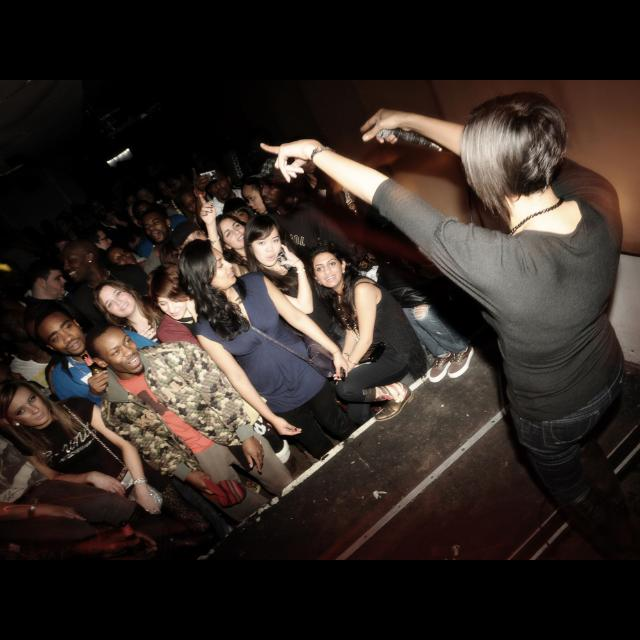head: (464, 92, 568, 196), (183, 242, 239, 294), (88, 322, 144, 374), (1, 380, 52, 432), (147, 262, 190, 322), (23, 306, 72, 352), (245, 216, 282, 268), (61, 238, 100, 286), (257, 160, 293, 212), (27, 261, 69, 299), (212, 214, 252, 252), (311, 246, 347, 288), (94, 282, 136, 318), (171, 220, 213, 256), (141, 208, 173, 246), (140, 208, 172, 245), (142, 208, 172, 246), (242, 177, 270, 215), (204, 166, 233, 202), (224, 198, 252, 234), (106, 245, 140, 271), (86, 228, 114, 256), (179, 187, 201, 215), (110, 200, 122, 212)
person: (84, 319, 314, 545), (254, 156, 476, 388), (178, 236, 368, 474), (144, 262, 308, 486), (89, 278, 255, 490), (60, 241, 200, 459), (245, 212, 381, 428), (18, 252, 136, 480), (199, 191, 321, 389), (12, 303, 138, 489), (308, 241, 428, 424), (169, 219, 287, 405), (76, 225, 180, 375), (140, 204, 234, 368), (101, 242, 205, 384), (190, 164, 280, 326), (220, 195, 296, 349), (241, 175, 315, 328), (124, 197, 196, 306), (177, 186, 240, 300), (91, 198, 157, 306), (130, 198, 193, 304)
